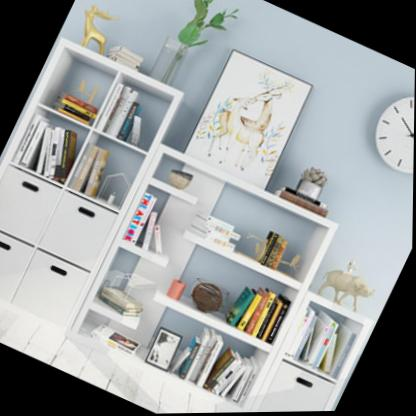Shelf: (70, 140, 344, 415), (0, 33, 188, 337)
